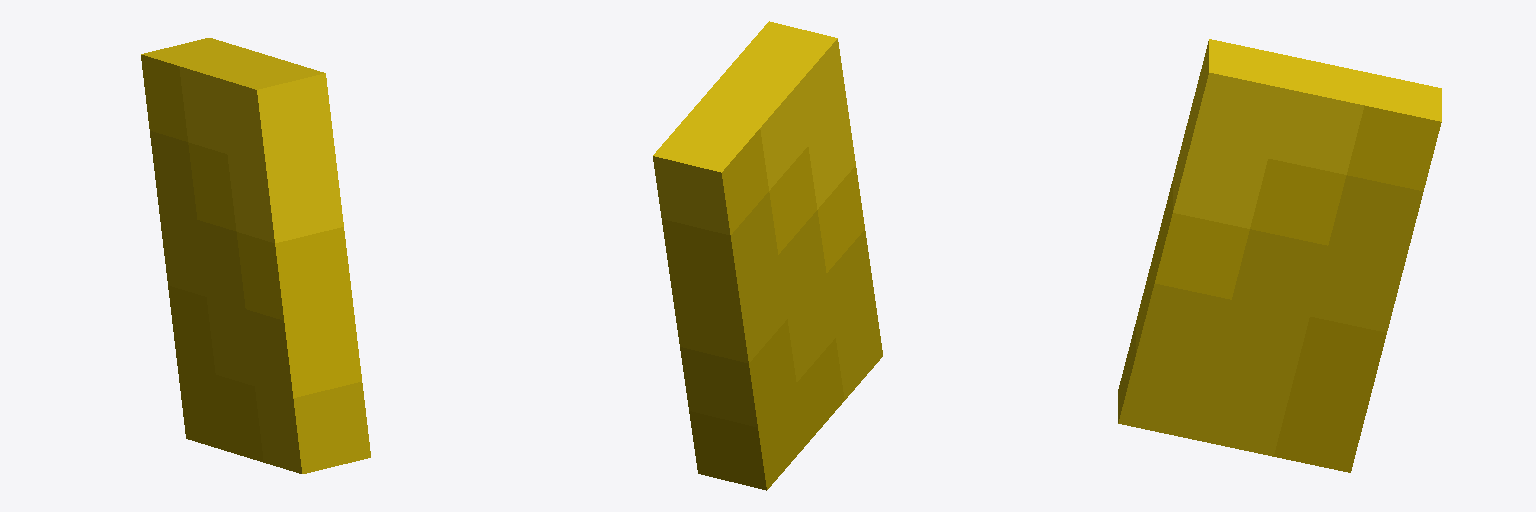
The picture shows the model from 3 angles: view 1: azimuth 30°, elevation 25°; view 2: azimuth 150°, elevation 25°; view 3: azimuth 270°, elevation 25°; orthographic projection.
Visible parts, largest first — view 1: aladerecha_material_0; view 2: aladerecha_material_0; view 3: aladerecha_material_0.
Boxes of the visible parts, x1=… form: aladerecha_material_0: x1=141, y1=38, x2=370, y2=473; aladerecha_material_0: x1=653, y1=21, x2=882, y2=490; aladerecha_material_0: x1=1118, y1=39, x2=1441, y2=472.
Size of the model in its own units: 0.0625 by 0.3471 by 0.2539.
Materials: 1 (1 with a texture image).